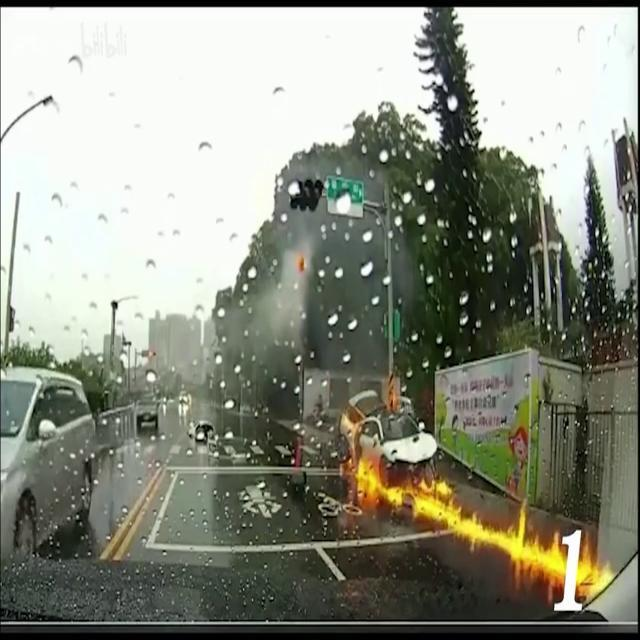multiple_accident: (333, 396, 480, 550)
